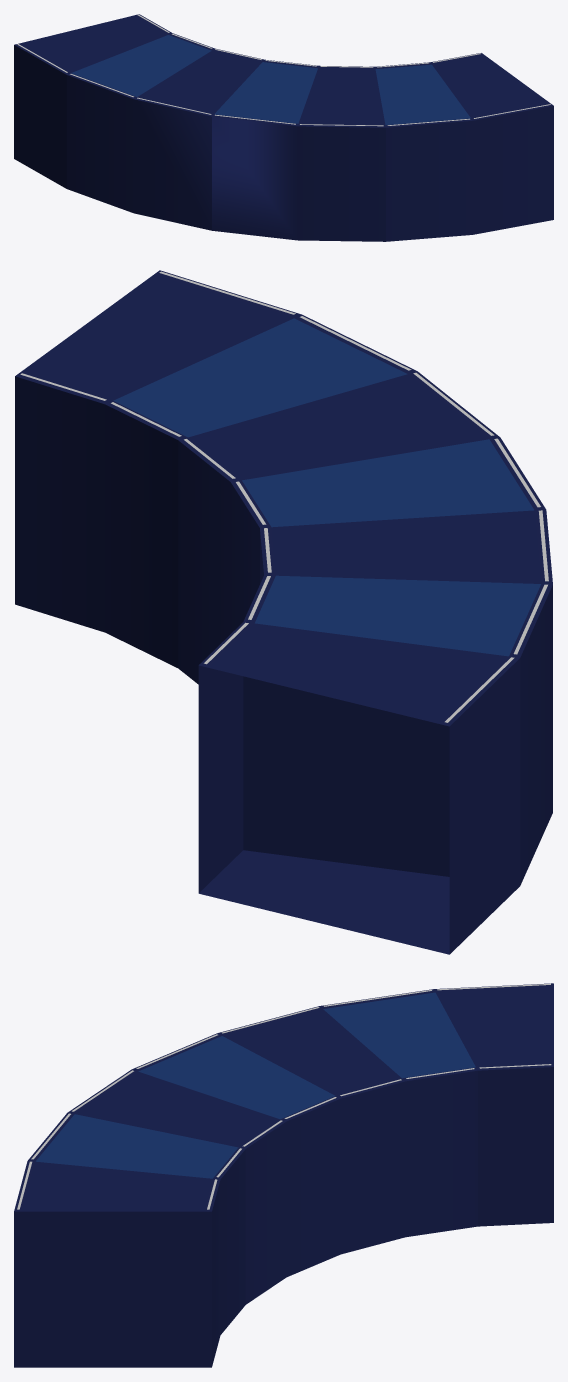
The model's file is B_Road_3.FBX.
The picture shows the model from 3 angles, top to bottom: view 1: azimuth 30°, elevation 25°; view 2: azimuth 150°, elevation 25°; view 3: azimuth 270°, elevation 25°; orthographic projection. The views are drawn at different scales.
Visible parts, largest first — view 1: Road_009, Glow_006; view 2: Road_009, Glow_006; view 3: Road_009, Glow_006.
Boxes of the visible parts, x1,y1,x2,y2 form: Road_009: [14, 14, 553, 241]; Glow_006: [17, 14, 550, 126]; Road_009: [15, 270, 552, 954]; Glow_006: [20, 271, 548, 722]; Road_009: [14, 983, 553, 1367]; Glow_006: [17, 984, 551, 1209].
Size of the model in its own units: 1372 by 1372 by 439.
